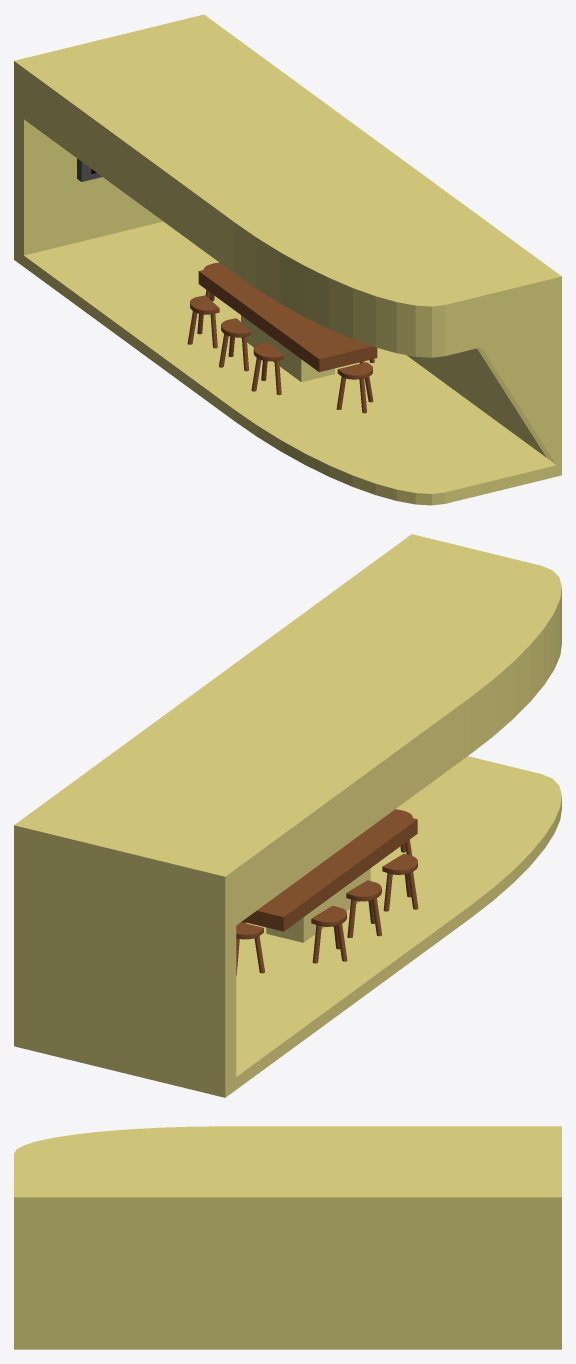
Rendered from Telepresencia.dae.
3 renders of one model, top to bottom at view 1: azimuth 30°, elevation 25°; view 2: azimuth 150°, elevation 25°; view 3: azimuth 270°, elevation 25°, orthographic. The views are drawn at different scales.
Parts seen in each view (by area): view 1: Cube, Cube.004, Cube.003, Banquillo.001, Banquillo.004, Banquillo.002, Banquillo.003; view 2: Cube, Cube.004, Cube.003, Banquillo.002, Banquillo.003, Banquillo.004, Banquillo; view 3: Cube.
Boxes of the visible parts, box(x1,y1,x2,y2) form: Cube: box(14, 14, 561, 505); Cube.004: box(198, 265, 377, 372); Cube.003: box(241, 315, 334, 382); Banquillo.001: box(336, 362, 373, 413); Banquillo.004: box(251, 342, 283, 394); Banquillo.002: box(187, 295, 219, 348); Banquillo.003: box(219, 318, 250, 371); Cube: box(14, 534, 561, 1097); Cube.004: box(242, 812, 417, 931); Cube.003: box(266, 868, 370, 942); Banquillo.002: box(311, 905, 347, 963); Banquillo.003: box(346, 880, 381, 937); Banquillo.004: box(382, 854, 418, 911); Banquillo: box(236, 922, 264, 975); Cube: box(14, 1126, 561, 1349).
Size of the model in its own units: 8.3 by 27.07 by 8.3.
